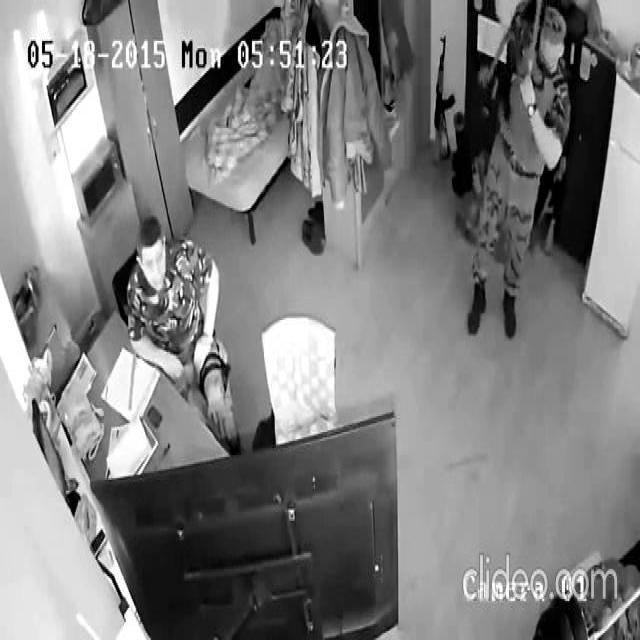pistol: (470, 0, 538, 153), (430, 31, 458, 173)
